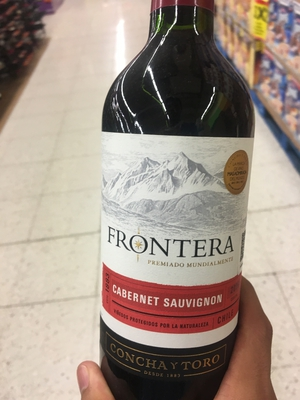frontera cabernet sauvignon: (94, 12, 268, 400)
